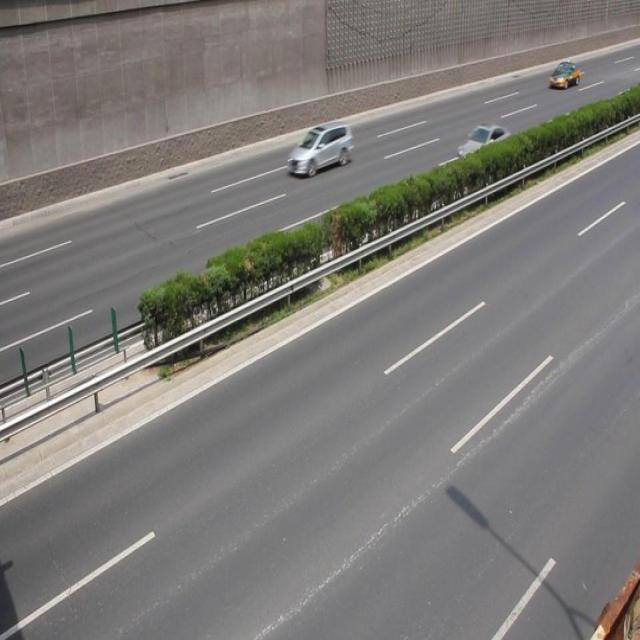car: (285, 121, 353, 178), (455, 123, 511, 172), (548, 60, 579, 89)
